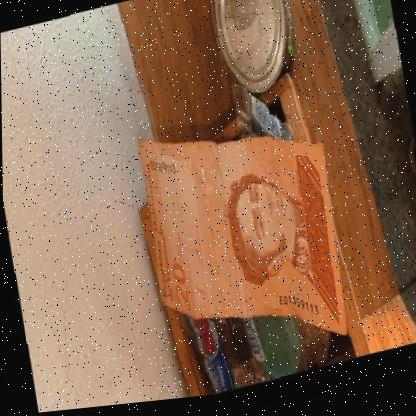twenty-front-vef: (134, 96, 351, 384)
